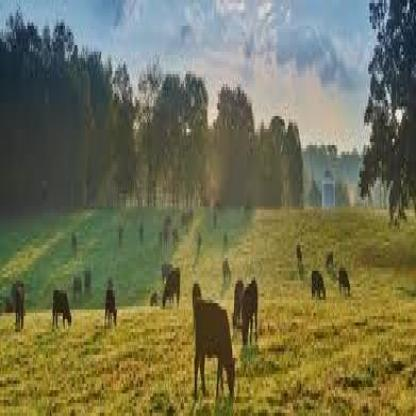cow: (192, 295, 238, 408), (239, 282, 258, 353), (52, 288, 72, 334), (162, 268, 180, 310), (104, 282, 117, 331), (12, 277, 24, 329), (310, 269, 326, 305), (338, 268, 350, 303), (223, 256, 232, 282), (73, 272, 81, 298), (327, 248, 335, 271), (83, 271, 91, 293)
